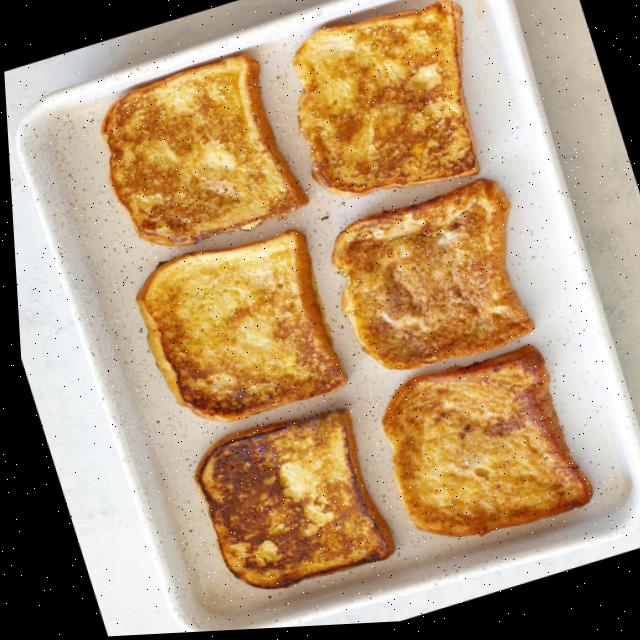Bread: (376, 349, 585, 540), (132, 232, 340, 422), (99, 56, 304, 247), (328, 182, 530, 372), (291, 3, 476, 199), (189, 411, 386, 590)
